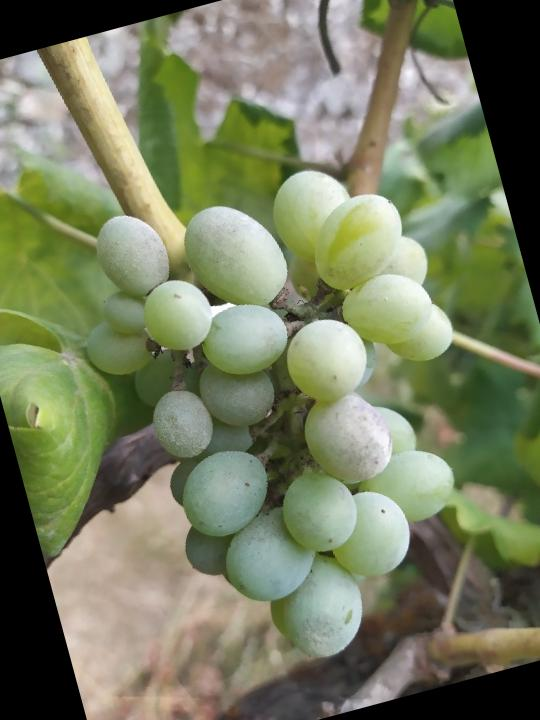grape: (52, 130, 532, 703)
